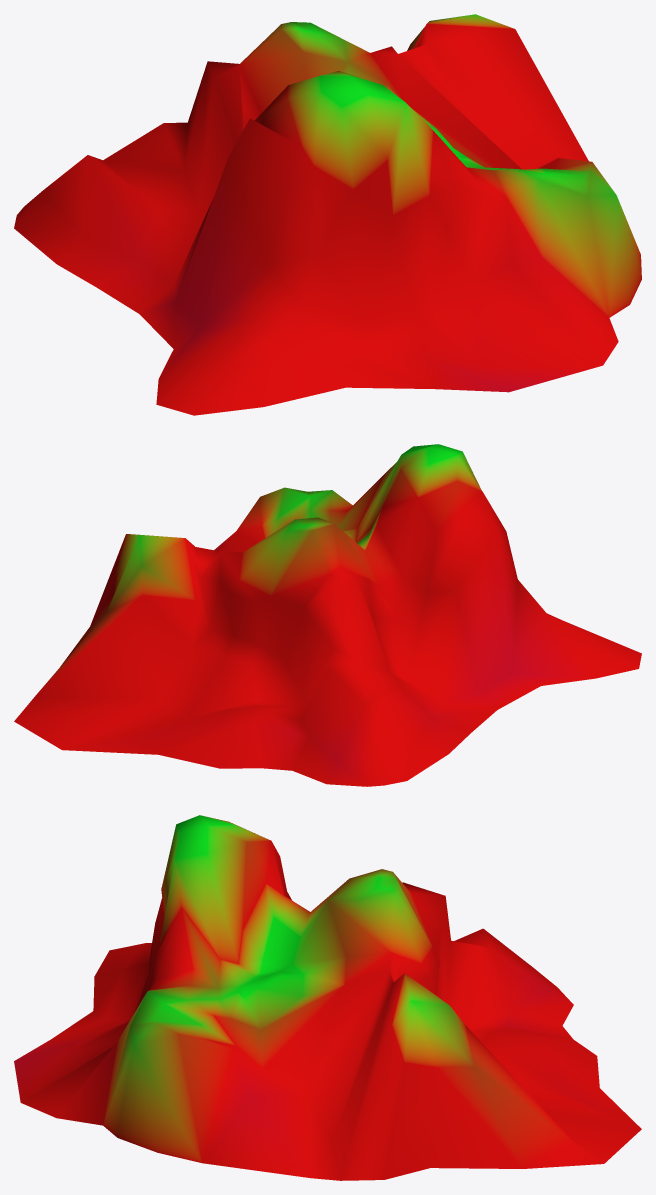
Rendered from Mountain1.FBX.
3 views of the same model, one above another, from view 1: azimuth 30°, elevation 25°; view 2: azimuth 150°, elevation 25°; view 3: azimuth 270°, elevation 25° (orthographic). The views are drawn at different scales.
Parts seen in each view (by area): view 1: Mountain_1; view 2: Mountain_1; view 3: Mountain_1.
Part boxes in pixels (x1,y1,x2,y2): Mountain_1: (14,14,641,415); Mountain_1: (14,444,641,786); Mountain_1: (14,815,641,1180).
Size of the model in its own units: 44.51 by 18.78 by 49.69.
